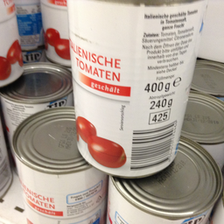tomato_sauce: (66, 1, 207, 180), (11, 106, 107, 224)
